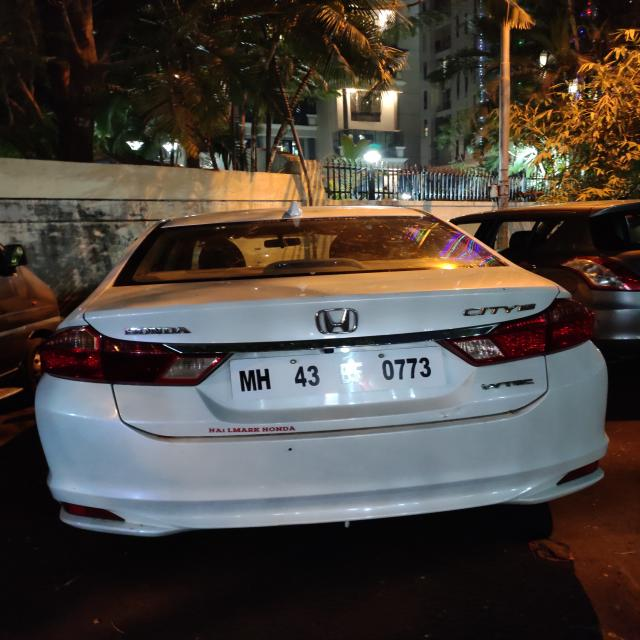Number-Plate: (235, 350, 443, 400)
